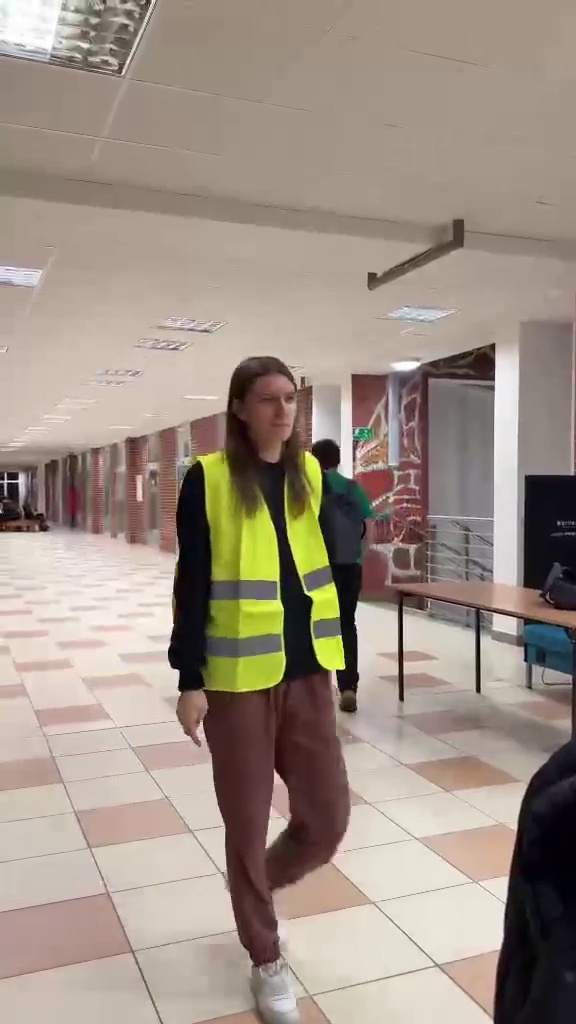vest: (176, 360, 358, 964)
